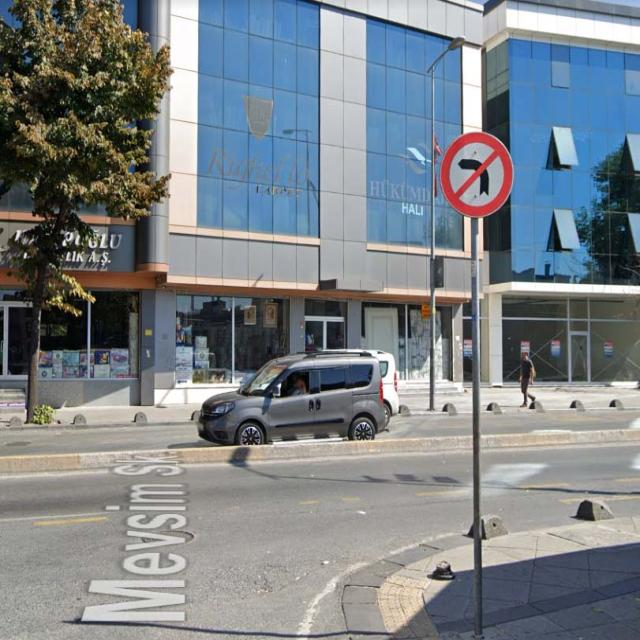soladonulmez: (438, 132, 515, 218)
